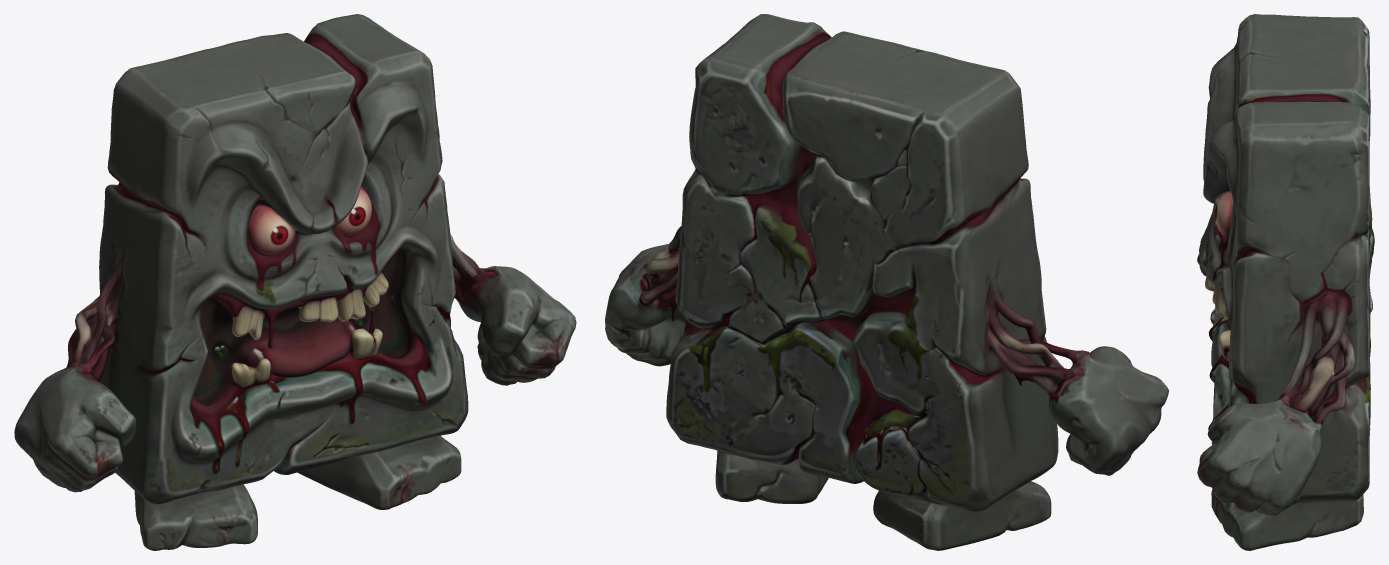
Rendered from stone_cube_monster_3d_model.fbx.
3 views of the same model, side by side, from view 1: azimuth 30°, elevation 25°; view 2: azimuth 150°, elevation 25°; view 3: azimuth 270°, elevation 25° (orthographic). The views are drawn at different scales.
Parts seen in each view (by area): view 1: tripo_node_26513e9b; view 2: tripo_node_26513e9b; view 3: tripo_node_26513e9b.
Part boxes in pixels (<box>): tripo_node_26513e9b: <box>14,14,576,550</box>; tripo_node_26513e9b: <box>605,14,1168,550</box>; tripo_node_26513e9b: <box>1197,14,1374,550</box>.
Bounding box in the file's own units: 0.9775 × 0.7734 × 0.3025.
